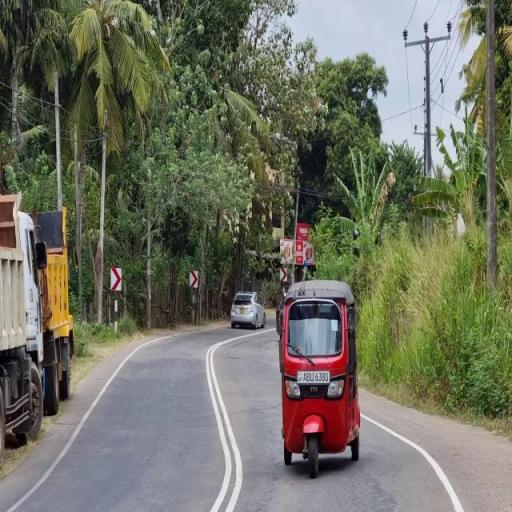double_white_line: (205, 335, 245, 511)
